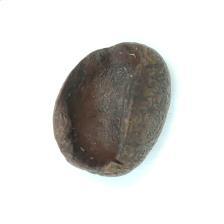NG: (64, 42, 143, 165)
